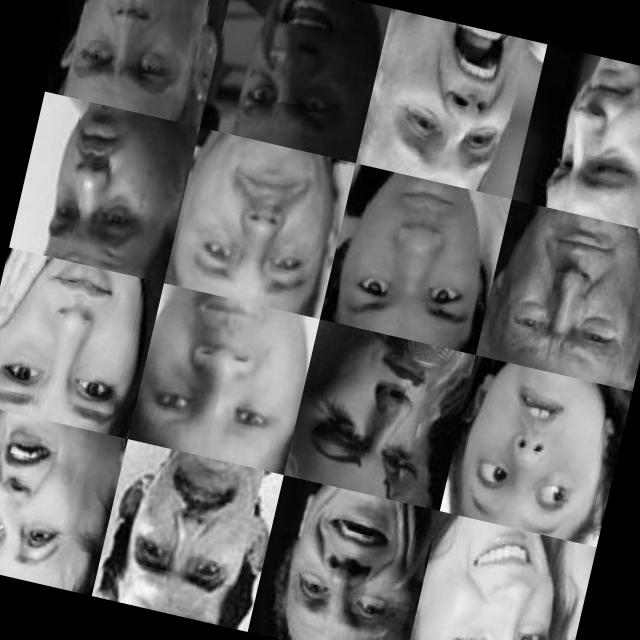angry: (302, 337, 469, 512), (221, 0, 380, 149), (386, 14, 528, 179), (498, 212, 640, 373)
fear: (451, 355, 627, 538), (104, 445, 278, 626)
happy: (267, 482, 436, 640), (0, 254, 148, 430), (416, 519, 583, 640), (0, 414, 117, 586)
neutral: (140, 288, 306, 464), (340, 166, 494, 330), (33, 100, 182, 265), (66, 0, 225, 113)
sad: (177, 138, 350, 306), (541, 50, 640, 214)
